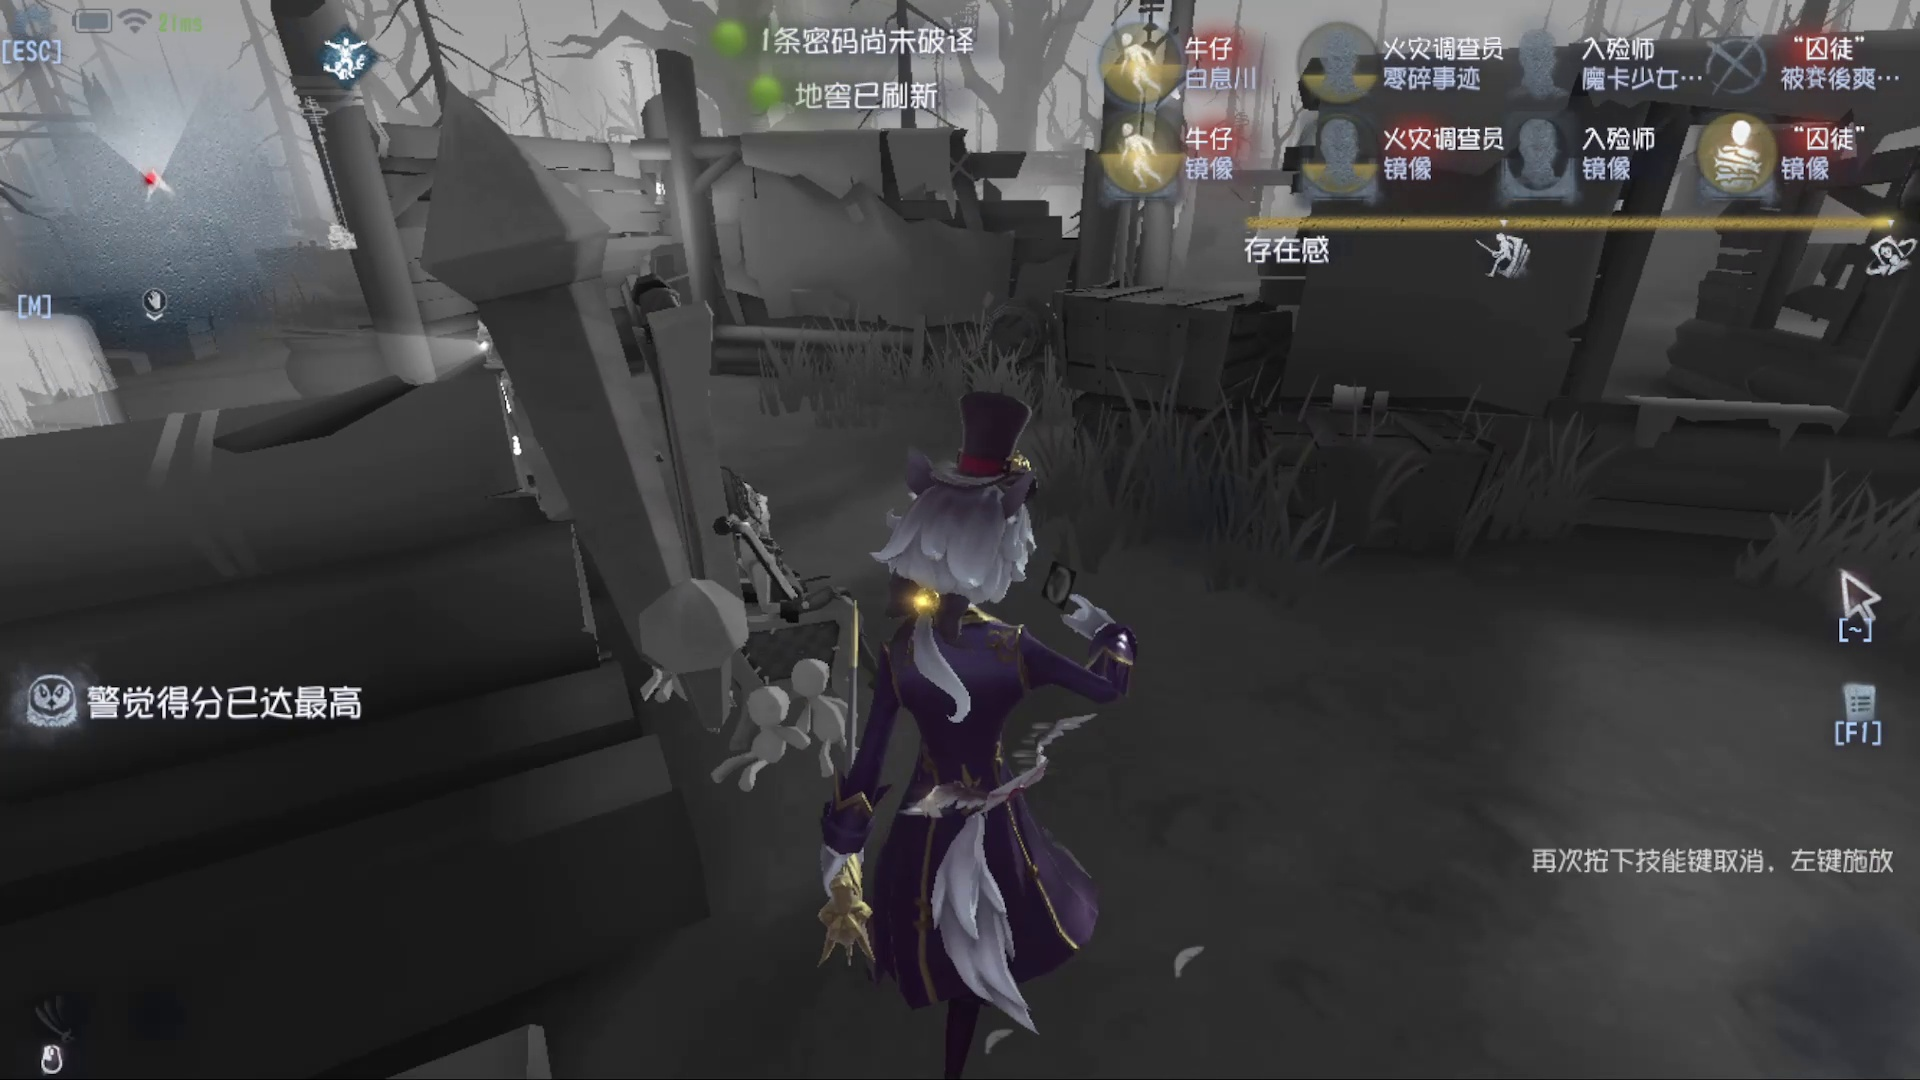狂欢之椅: (421, 84, 913, 793)
